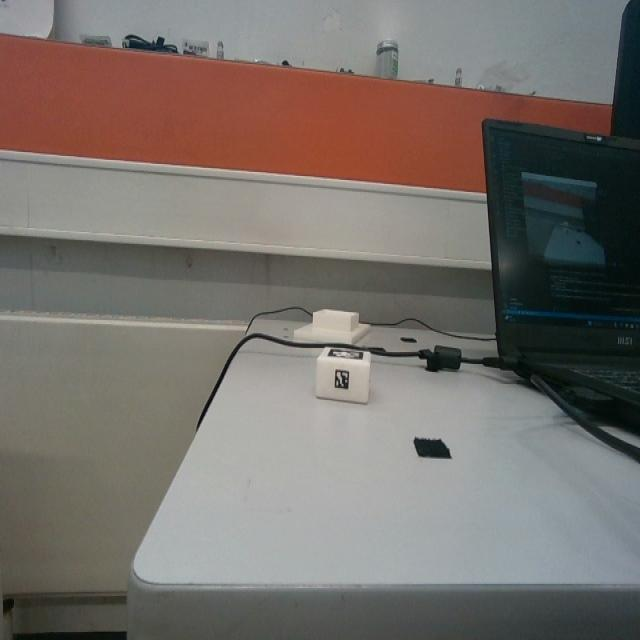Cube: (318, 344, 372, 404)
